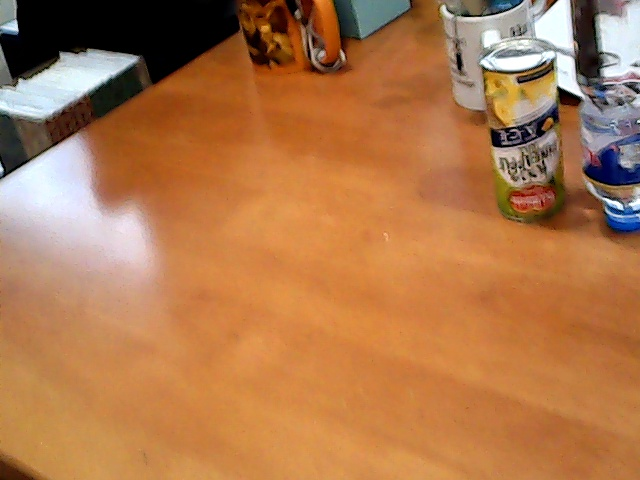Pine Juice: (476, 36, 568, 223)
Summit Water: (587, 2, 640, 243)
